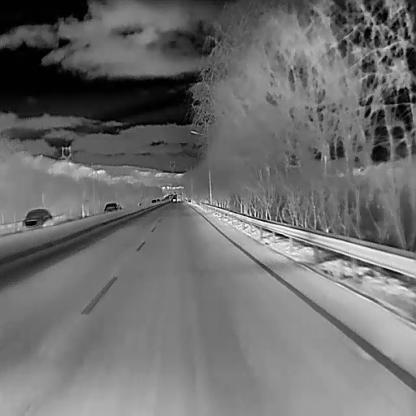car: (20, 206, 55, 233), (102, 200, 122, 214), (177, 194, 182, 202), (150, 198, 157, 203), (156, 198, 160, 202), (173, 198, 176, 202)
